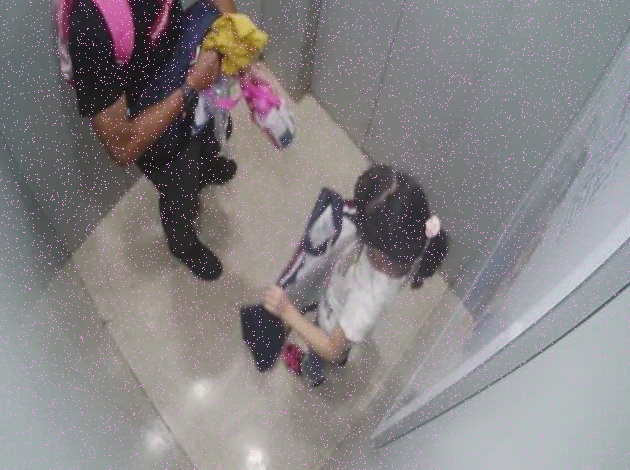person: (61, 1, 261, 284), (287, 161, 439, 413)
